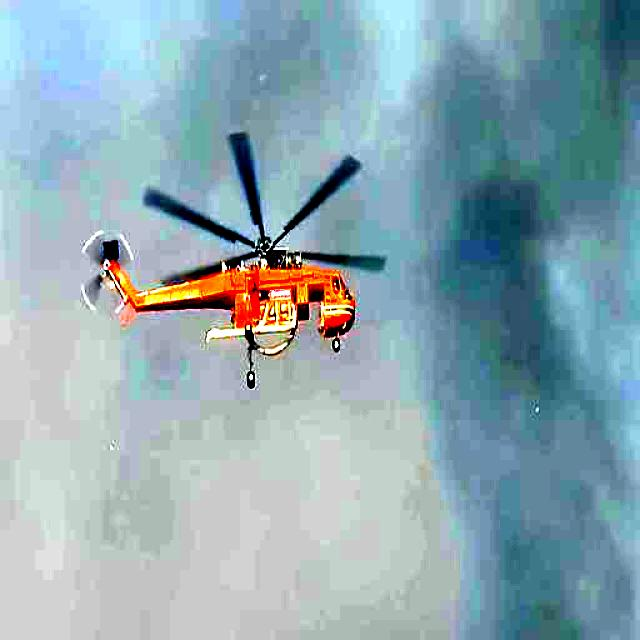drone: (92, 122, 386, 374)
